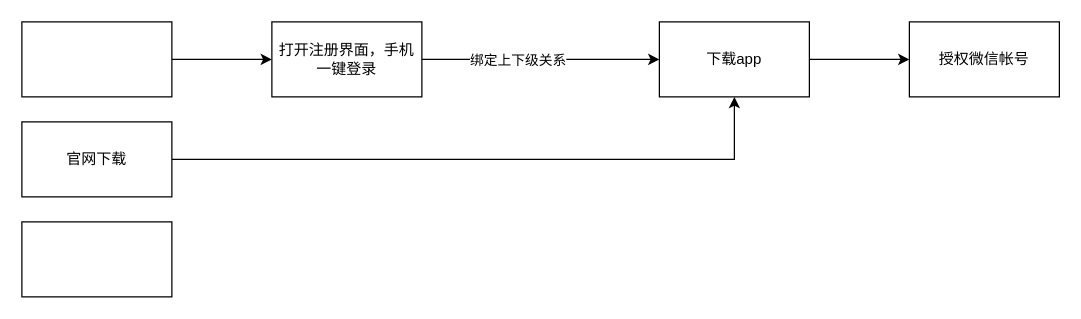
Image size: 1081x319. Some labels were removed from this diagram. The centre of each missing label's shape, as x and y in pixels:
"应用商店下载" belongs at pixel 96 259.
"微信扫码" belongs at pixel 96 59.
